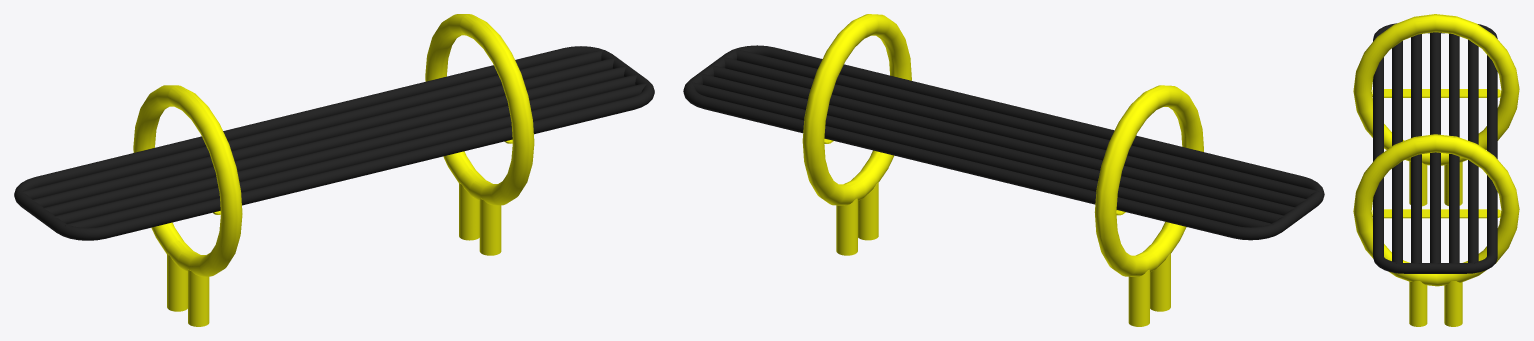
3 views of the same model, side by side, from view 1: azimuth 30°, elevation 25°; view 2: azimuth 150°, elevation 25°; view 3: azimuth 270°, elevation 25° (orthographic). The views are drawn at different scales.
Parts seen in each view (by area): view 1: mesh1_mesh1-geometry, mesh10_mesh10-geometry, mesh21_mesh21-geometry, mesh24_mesh24-geometry, mesh26_mesh26-geometry, mesh23_mesh23-geometry, mesh25_mesh25-geometry, mesh15_mesh15-geometry, mesh13_mesh13-geometry, mesh12_mesh12-geometry, mesh14_mesh14-geometry, mesh22_mesh22-geometry (+3 smaller); view 2: mesh1_mesh1-geometry, mesh10_mesh10-geometry, mesh21_mesh21-geometry, mesh24_mesh24-geometry, mesh23_mesh23-geometry, mesh26_mesh26-geometry, mesh22_mesh22-geometry, mesh13_mesh13-geometry, mesh12_mesh12-geometry, mesh15_mesh15-geometry, mesh11_mesh11-geometry, mesh25_mesh25-geometry (+3 smaller); view 3: mesh1_mesh1-geometry, mesh21_mesh21-geometry, mesh10_mesh10-geometry, mesh24_mesh24-geometry, mesh4_mesh4-geometry, mesh26_mesh26-geometry, mesh23_mesh23-geometry, mesh3_mesh3-geometry, mesh13_mesh13-geometry, mesh15_mesh15-geometry, mesh12_mesh12-geometry, mesh14_mesh14-geometry (+4 smaller).
Boxes of the visible parts, x1,y1,x2,y2 form: mesh1_mesh1-geometry: (133,14,534,276); mesh10_mesh10-geometry: (14,112,371,240); mesh21_mesh21-geometry: (300,46,654,174); mesh24_mesh24-geometry: (333,66,626,146); mesh26_mesh26-geometry: (323,58,614,138); mesh23_mesh23-geometry: (344,74,637,155); mesh25_mesh25-geometry: (311,49,603,130); mesh15_mesh15-geometry: (31,129,326,207); mesh13_mesh13-geometry: (43,137,337,215); mesh12_mesh12-geometry: (54,145,348,223); mesh14_mesh14-geometry: (19,121,315,199); mesh22_mesh22-geometry: (356,82,649,163); mesh1_mesh1-geometry: (802,14,1203,276); mesh10_mesh10-geometry: (967,112,1324,240); mesh21_mesh21-geometry: (683,45,1038,173); mesh24_mesh24-geometry: (712,65,1004,146); mesh23_mesh23-geometry: (723,57,1015,137); mesh26_mesh26-geometry: (700,74,993,154); mesh22_mesh22-geometry: (734,49,1027,129); mesh13_mesh13-geometry: (1000,136,1295,215); mesh12_mesh12-geometry: (1012,128,1306,206); mesh15_mesh15-geometry: (989,145,1284,223); mesh11_mesh11-geometry: (1023,120,1319,198); mesh25_mesh25-geometry: (688,82,981,162); mesh1_mesh1-geometry: (1353,14,1519,286); mesh21_mesh21-geometry: (1373,143,1497,273); mesh10_mesh10-geometry: (1373,23,1497,147); mesh24_mesh24-geometry: (1430,152,1440,263); mesh4_mesh4-geometry: (1444,162,1462,326); mesh26_mesh26-geometry: (1449,154,1459,263); mesh23_mesh23-geometry: (1411,154,1421,263); mesh3_mesh3-geometry: (1409,161,1427,326); mesh13_mesh13-geometry: (1430,32,1440,134); mesh15_mesh15-geometry: (1449,33,1459,137); mesh12_mesh12-geometry: (1411,34,1421,137); mesh14_mesh14-geometry: (1468,39,1478,144).
Bounding box in the file's own units: 0.909 × 0.3254 × 0.2605.
